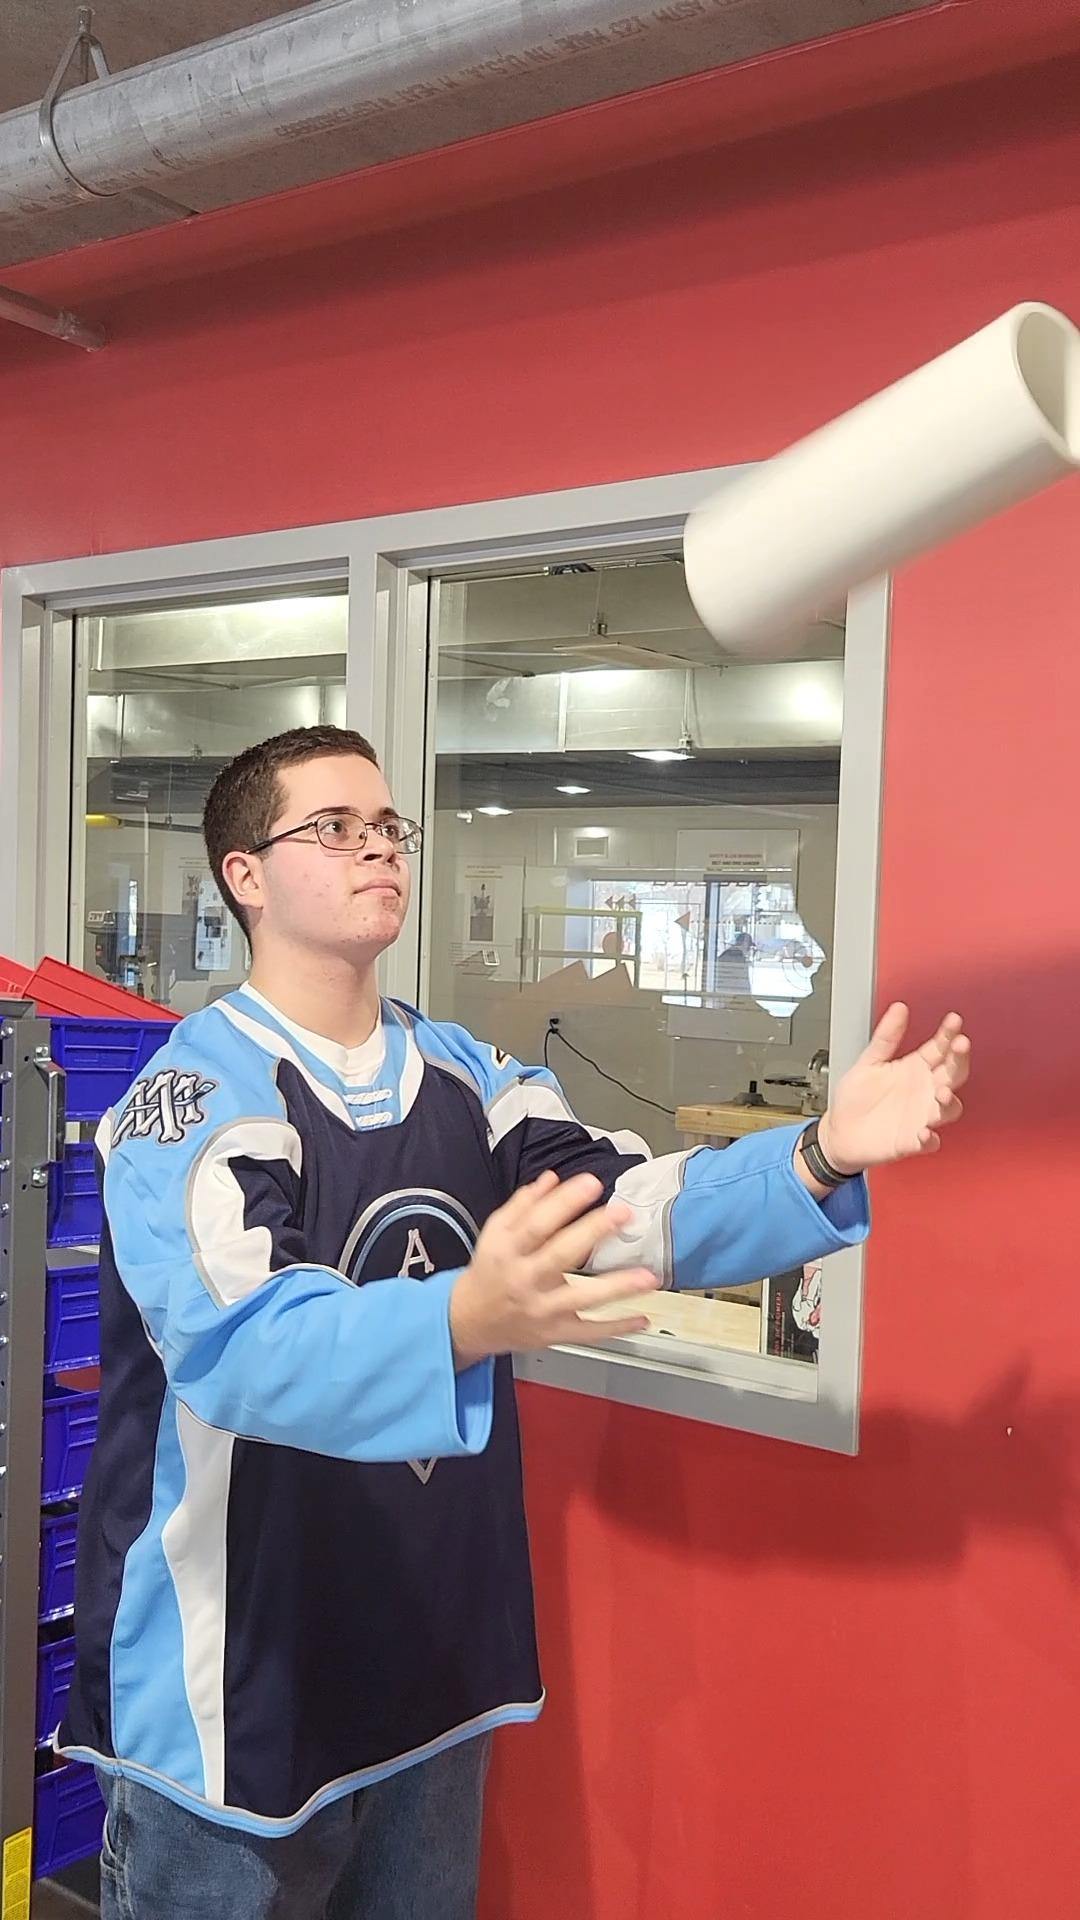coral: (676, 297, 1080, 670)
